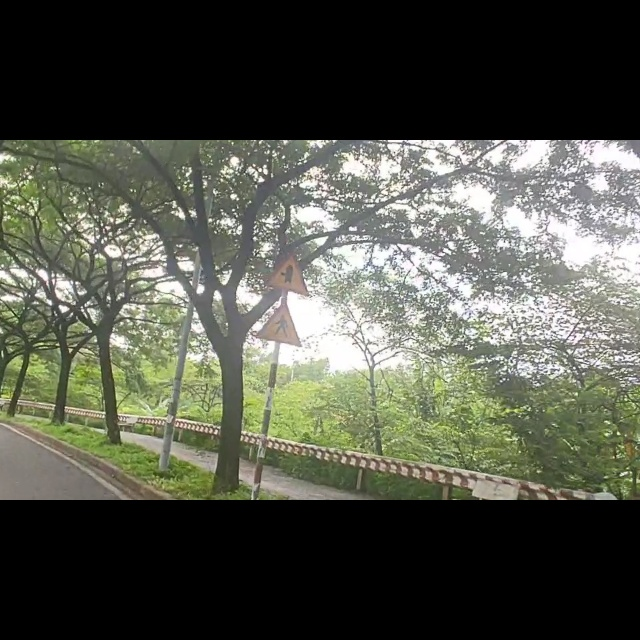bien_nguy_hiem: (253, 280, 309, 372), (265, 199, 315, 277)
